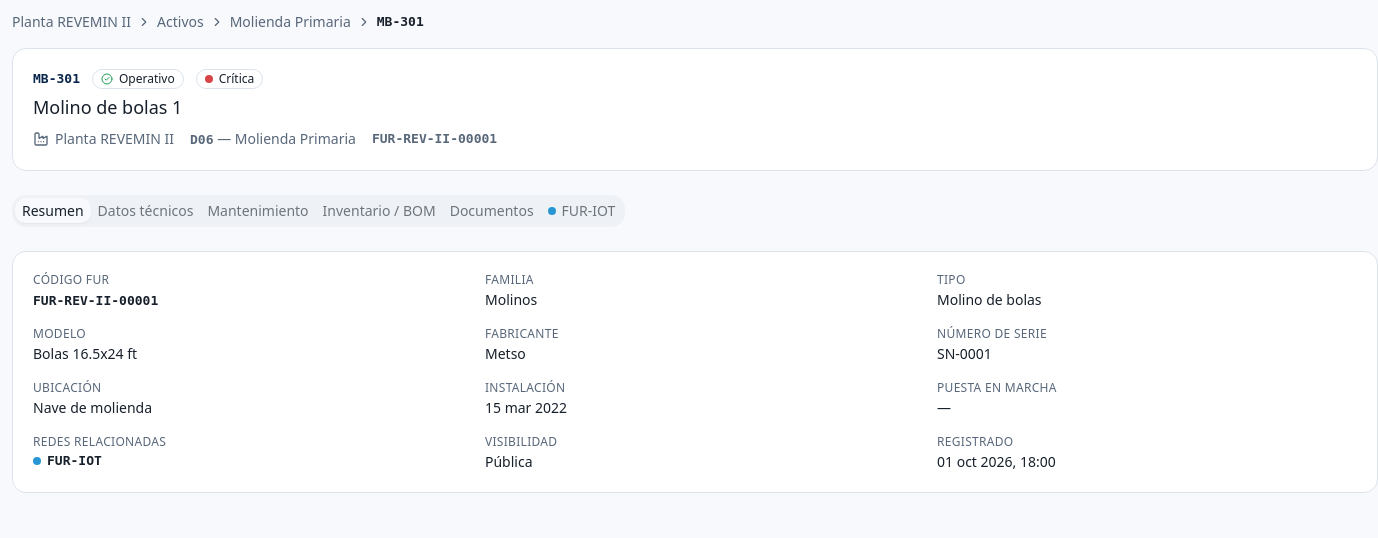
Test: Ficha FUR del activo › pestañas por red (variables del fabricante) › muestra las variables de esa red que aplican a la etapa: valor, «Sin registrar» y clave
What coordinates should you click on to do the following:
click the tab "FUR-IOT"
I would click on:
 (582, 211)
Its box is [541,198,622,223].
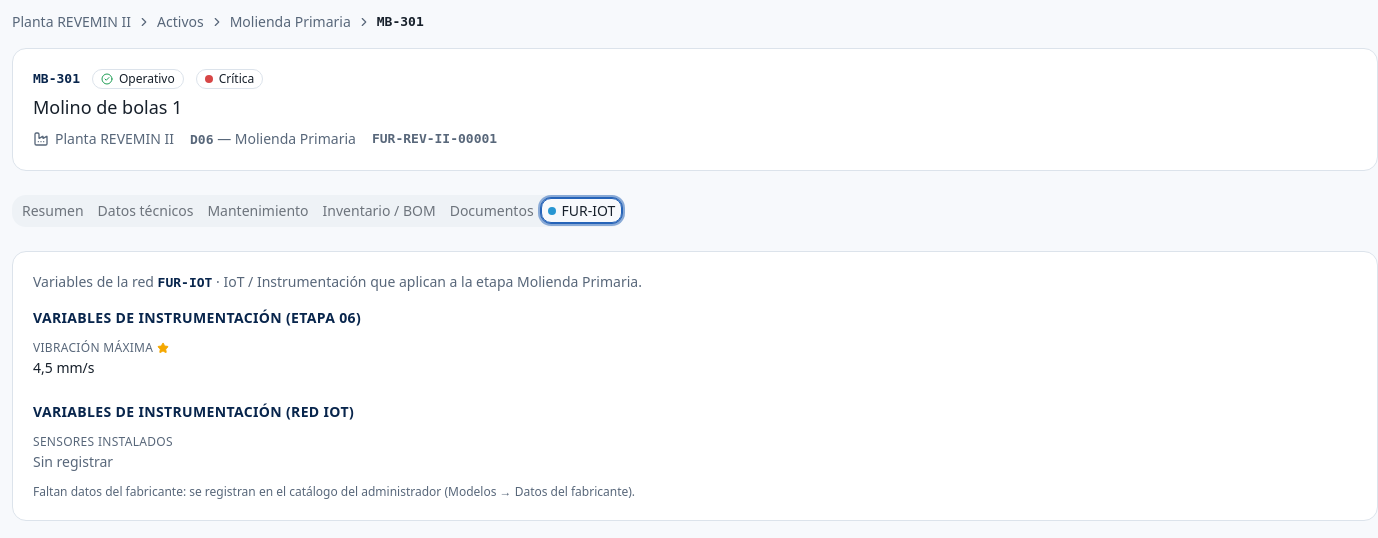
Expected: the text "Vibración máxima" is shown, [33,340,169,356]
Expected: the text "4,5 mm/s" is shown, [33,358,94,377]
Expected: the icon named "Variable clave" is shown, [157,342,169,354]
